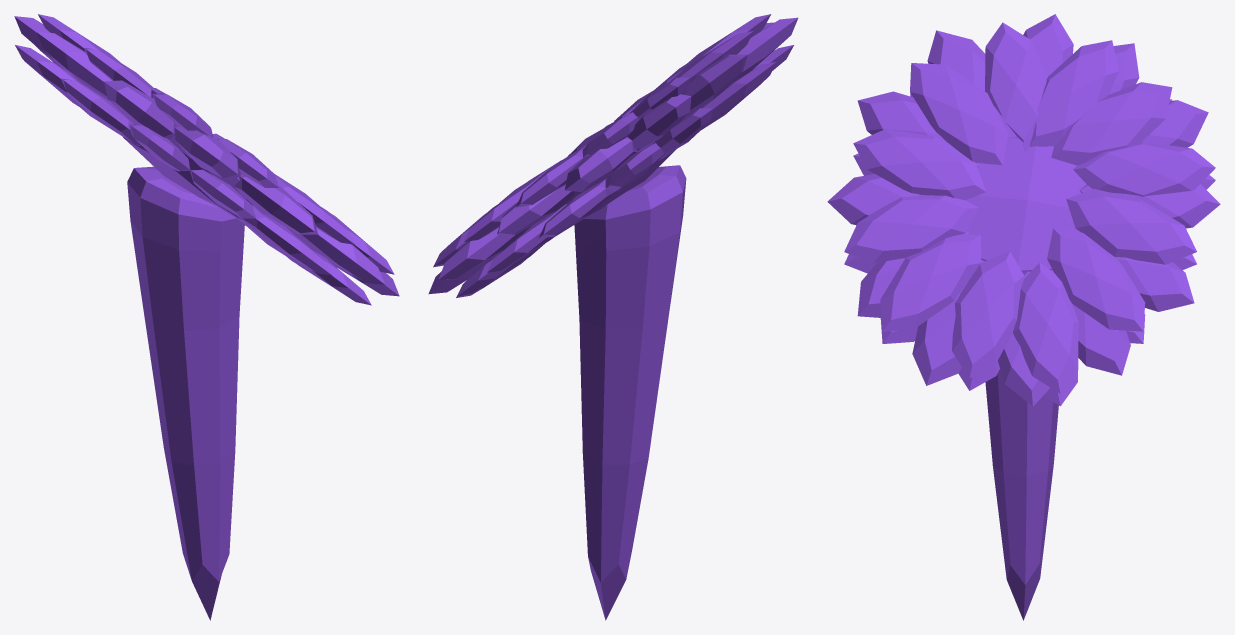
The model's file is PurpleFlowerV5 (2).fbx.
3 views of the same model, side by side, from view 1: azimuth 30°, elevation 25°; view 2: azimuth 150°, elevation 25°; view 3: azimuth 270°, elevation 25° (orthographic). The views are drawn at different scales.
Parts seen in each view (by area): view 1: Cube.012; view 2: Cube.012; view 3: Cube.012.
Boxes of the visible parts, x1,y1,x2,y2 form: Cube.012: (14,14,399,620); Cube.012: (428,14,798,620); Cube.012: (827,14,1220,620).
Size of the model in its own units: 26.55 by 50.17 by 33.12.
